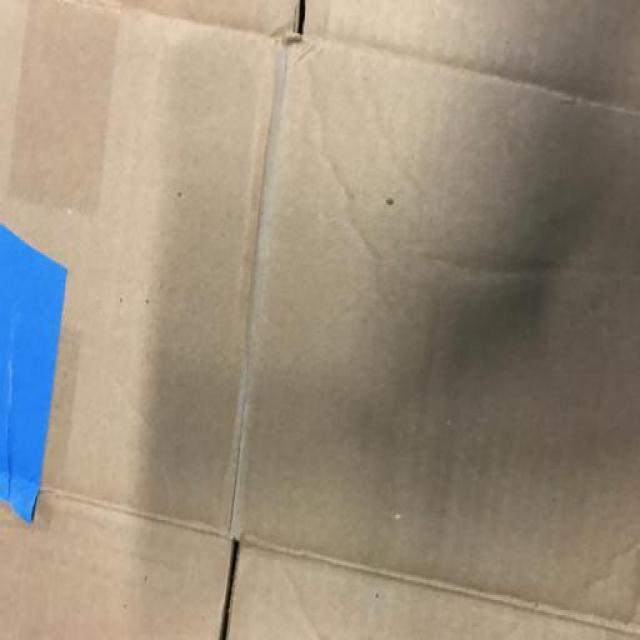cardboard: (3, 6, 640, 639)
